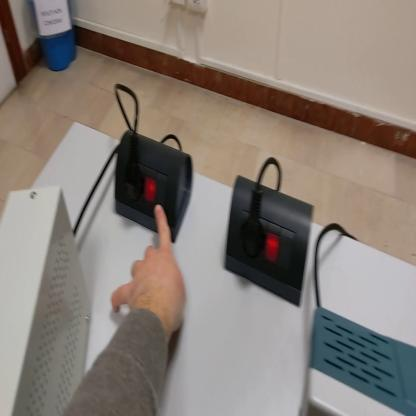hand: (111, 205, 187, 336)
oscilloscope: (305, 309, 416, 415)
power supply: (2, 191, 91, 414)
socket: (226, 172, 315, 310), (111, 129, 189, 244)
